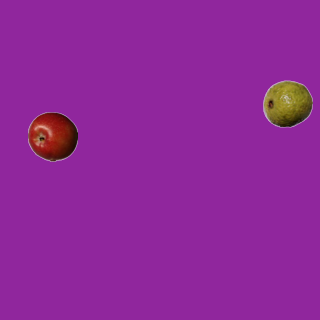Apple Braeburn: (27, 111, 77, 161)
Guava: (262, 78, 312, 128)
